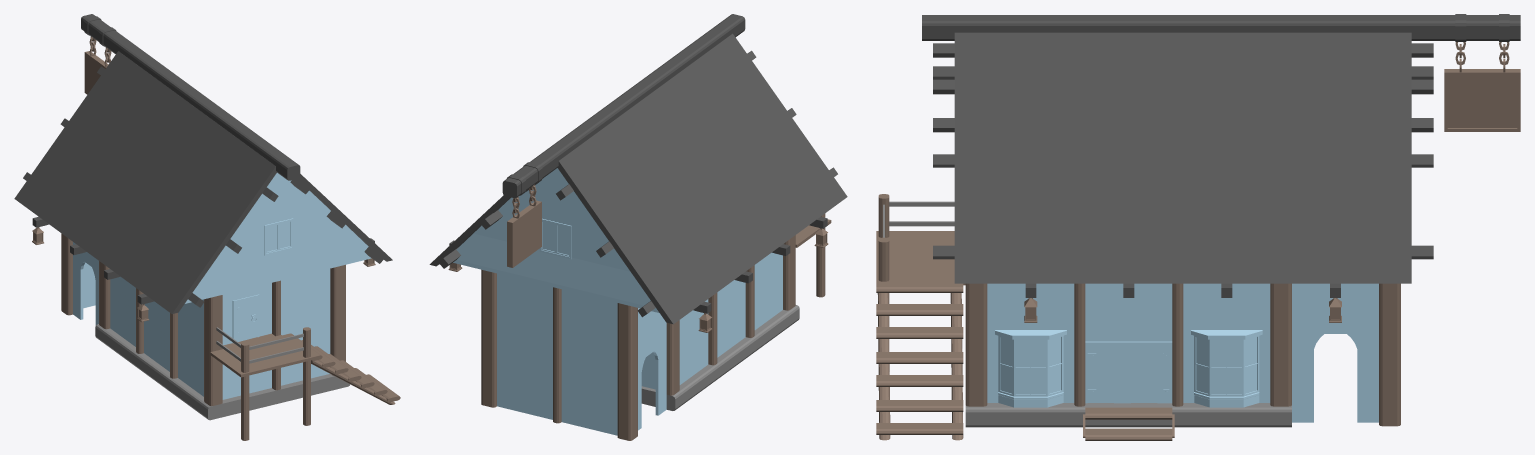
File: Tienda.fbx
3 views of the same model, side by side, from view 1: azimuth 30°, elevation 25°; view 2: azimuth 150°, elevation 25°; view 3: azimuth 270°, elevation 25° (orthographic). The views are drawn at different scales.
Parts seen in each view (by area): view 1: Tienda; view 2: Tienda; view 3: Tienda.
Part boxes in pixels (box(x1,y1,x2,y2)): Tienda: box(14, 14, 400, 440); Tienda: box(429, 14, 847, 440); Tienda: box(876, 14, 1520, 440).
Bounding box in the file's own units: 3601 × 3660 × 5920.
